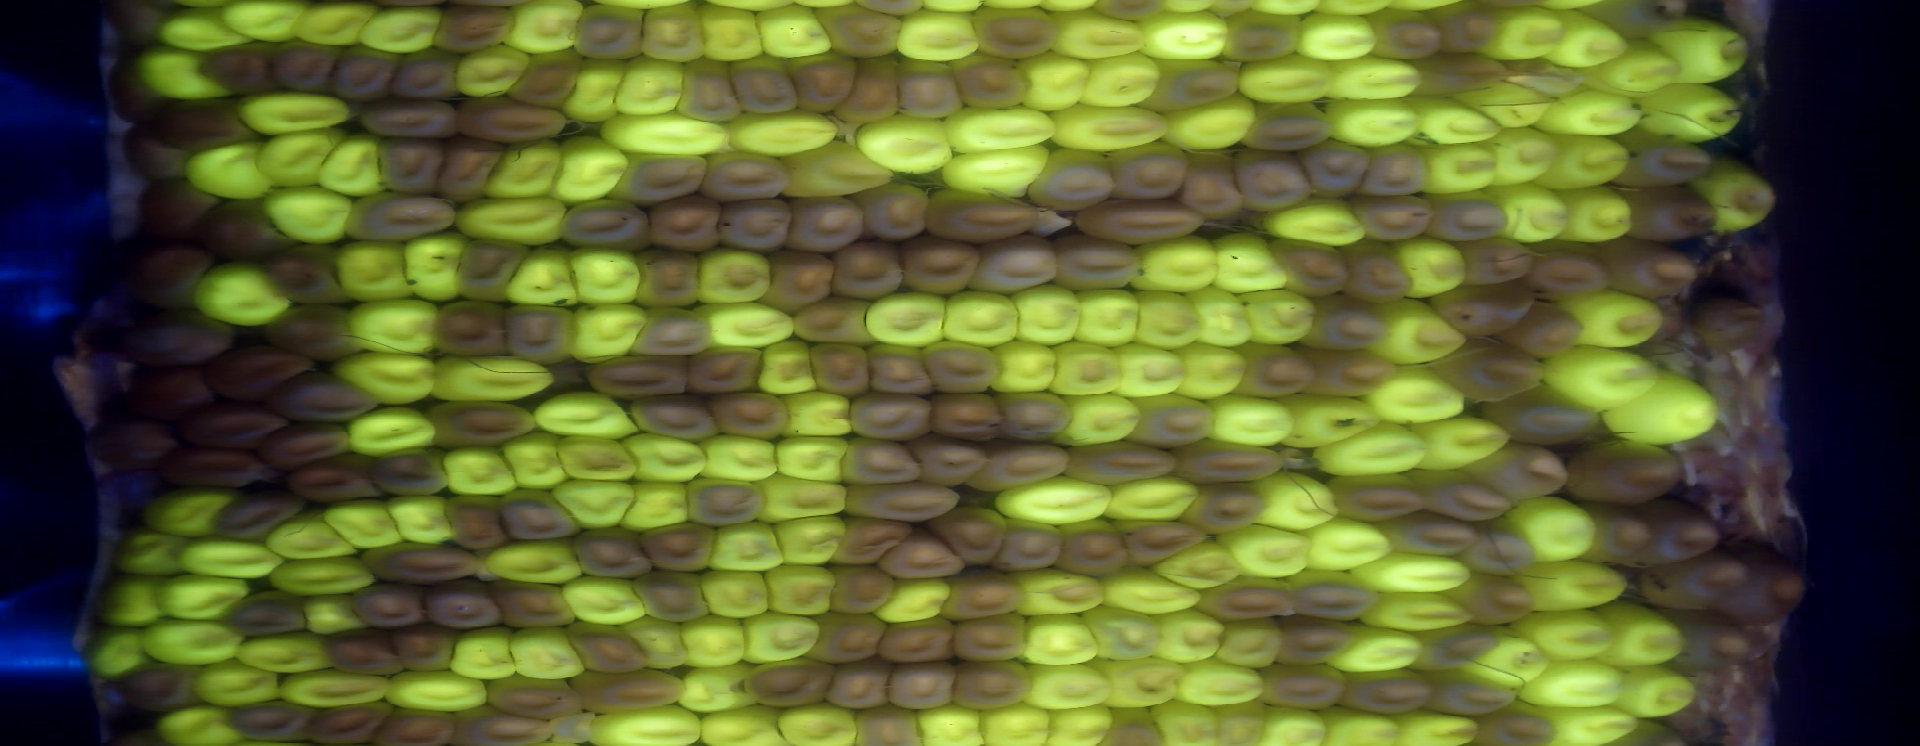fluorescent: (1597, 361, 1725, 452), (1538, 341, 1667, 416), (773, 138, 898, 205), (1558, 283, 1670, 354), (425, 349, 557, 409), (1649, 9, 1755, 83), (847, 109, 960, 178), (447, 189, 576, 249), (1368, 296, 1472, 370), (1629, 78, 1744, 145), (1367, 358, 1476, 428), (189, 257, 295, 328), (1311, 416, 1435, 477), (596, 107, 737, 159), (1517, 552, 1633, 615), (127, 39, 235, 107), (251, 121, 351, 194), (338, 294, 452, 358), (324, 349, 442, 410), (1689, 153, 1780, 232), (1044, 98, 1169, 156), (1502, 492, 1605, 562), (1398, 89, 1509, 154), (722, 102, 844, 160), (1404, 413, 1518, 475), (939, 140, 1051, 203), (1275, 388, 1387, 451), (135, 481, 249, 543), (1155, 89, 1260, 156), (178, 134, 277, 203), (260, 178, 356, 249), (1344, 548, 1480, 598), (561, 298, 655, 370), (1245, 464, 1344, 533), (1544, 2, 1635, 77), (1596, 597, 1689, 669), (580, 695, 710, 746), (1528, 83, 1648, 138), (1261, 189, 1371, 249), (1515, 657, 1635, 712), (168, 530, 290, 584), (994, 472, 1117, 526), (228, 85, 355, 136), (1044, 5, 1153, 65), (1096, 559, 1205, 619), (936, 99, 1064, 149), (1360, 583, 1483, 636), (1468, 622, 1560, 692), (1202, 227, 1296, 295), (547, 132, 636, 205), (140, 611, 255, 666), (1228, 49, 1338, 107), (1469, 2, 1569, 66), (1297, 514, 1397, 577), (1216, 519, 1318, 581), (481, 134, 566, 207), (331, 236, 418, 307), (1009, 563, 1116, 621), (1453, 72, 1560, 130), (500, 241, 585, 312), (936, 285, 1027, 352), (398, 223, 471, 305), (1386, 229, 1469, 301), (1318, 96, 1427, 151), (480, 533, 587, 589), (1538, 129, 1640, 187), (1074, 47, 1166, 111), (1018, 658, 1123, 714), (380, 665, 495, 717), (263, 549, 381, 599), (310, 130, 394, 200), (1547, 185, 1641, 247), (342, 401, 440, 461), (276, 663, 400, 709), (1513, 608, 1624, 660), (1104, 472, 1207, 528), (528, 388, 643, 439), (1331, 617, 1427, 677), (1065, 282, 1149, 350), (1288, 6, 1382, 66), (1482, 119, 1564, 187), (1613, 660, 1704, 722), (447, 39, 535, 103), (863, 287, 951, 350), (1322, 50, 1429, 103), (752, 472, 856, 526), (260, 506, 364, 560), (151, 570, 255, 624), (348, 1, 449, 56), (1125, 233, 1224, 289), (1134, 6, 1232, 62), (1490, 183, 1578, 245), (560, 571, 655, 628), (1014, 50, 1098, 115), (1047, 334, 1131, 399), (1101, 339, 1190, 401), (1056, 391, 1149, 450), (1206, 390, 1305, 445), (606, 51, 686, 120), (689, 243, 775, 306), (615, 428, 715, 481), (231, 627, 339, 677), (1161, 534, 1249, 595), (82, 619, 162, 686), (549, 474, 642, 532), (149, 4, 253, 55), (1127, 285, 1207, 352), (1174, 653, 1273, 707), (1536, 697, 1644, 746), (893, 5, 983, 64), (507, 619, 589, 684), (1599, 33, 1686, 94), (1168, 339, 1251, 403), (1010, 279, 1087, 348), (318, 494, 407, 554), (495, 1, 587, 59), (633, 1, 711, 69), (700, 298, 796, 353), (1420, 135, 1502, 198), (740, 608, 827, 668), (94, 566, 170, 635), (567, 243, 645, 309), (1240, 284, 1321, 348), (1213, 615, 1296, 677), (751, 2, 838, 61), (696, 429, 782, 488), (1014, 611, 1104, 668), (1104, 650, 1189, 710), (696, 697, 798, 746), (550, 429, 640, 484), (190, 652, 287, 703), (982, 337, 1062, 399), (675, 608, 754, 670), (1085, 603, 1164, 665), (440, 441, 525, 499), (693, 563, 775, 624), (707, 517, 786, 578), (774, 510, 853, 571), (563, 51, 627, 127), (446, 620, 522, 684), (1150, 603, 1228, 664), (1385, 699, 1487, 746), (775, 385, 857, 442), (681, 659, 759, 719), (771, 429, 851, 488), (284, 1, 384, 48), (615, 479, 696, 537), (692, 1, 768, 62), (873, 572, 955, 628), (621, 611, 696, 673), (763, 559, 838, 620), (110, 526, 195, 579), (1185, 283, 1254, 349), (217, 1, 313, 48), (497, 428, 571, 489), (756, 334, 822, 402), (382, 489, 457, 548), (152, 699, 246, 746), (771, 698, 863, 746), (1250, 697, 1335, 746), (1144, 693, 1222, 746), (980, 696, 1060, 746), (1206, 690, 1276, 746), (1320, 699, 1404, 746), (1041, 697, 1119, 746), (296, 589, 370, 639), (912, 701, 993, 746)
nonfluorescent: (1555, 434, 1685, 511), (1717, 538, 1813, 628), (1433, 336, 1555, 407), (1482, 382, 1608, 450), (1637, 549, 1755, 615), (1607, 126, 1720, 194), (111, 307, 235, 369), (1618, 494, 1725, 563), (200, 341, 322, 402), (456, 89, 576, 152), (1615, 179, 1724, 247), (921, 185, 1044, 245), (962, 225, 1067, 296), (1464, 439, 1578, 503), (264, 367, 387, 428), (1597, 234, 1703, 303), (339, 187, 458, 247), (1070, 195, 1209, 246), (1404, 465, 1517, 527), (125, 243, 220, 314), (1063, 437, 1180, 495), (264, 299, 365, 365), (422, 396, 542, 451), (353, 538, 487, 587), (1321, 469, 1435, 527), (174, 394, 295, 448), (1177, 141, 1254, 225), (1656, 603, 1756, 668), (103, 657, 207, 719), (962, 439, 1075, 496), (1365, 506, 1480, 562), (1515, 236, 1613, 303), (1297, 289, 1391, 358), (1428, 281, 1536, 341), (1236, 96, 1338, 158), (1229, 141, 1315, 216), (757, 245, 844, 318), (1049, 227, 1144, 294), (149, 442, 276, 492), (1265, 233, 1356, 303), (1417, 661, 1522, 722), (567, 668, 696, 717), (1025, 145, 1122, 209), (1169, 437, 1294, 488), (264, 238, 353, 309), (620, 388, 724, 448), (1113, 512, 1217, 572), (1142, 56, 1244, 118), (809, 1, 909, 64), (840, 475, 969, 523), (208, 481, 302, 546), (160, 93, 264, 152), (696, 145, 795, 206), (479, 575, 584, 632), (613, 149, 714, 209), (1336, 235, 1419, 307), (1104, 138, 1195, 205), (1283, 566, 1385, 625), (831, 49, 910, 125), (785, 191, 873, 258), (255, 416, 351, 478), (203, 196, 288, 266), (926, 503, 1013, 571), (1500, 299, 1587, 366), (896, 234, 988, 298), (915, 336, 1007, 399), (83, 413, 182, 472), (135, 176, 220, 244), (1304, 343, 1402, 402), (507, 45, 587, 118), (557, 194, 653, 254), (1178, 480, 1273, 540), (965, 2, 1062, 61), (842, 385, 939, 443), (1215, 7, 1311, 66), (429, 295, 516, 360), (500, 298, 580, 367), (936, 567, 1033, 625), (703, 385, 798, 443), (874, 526, 970, 584), (1333, 665, 1442, 717), (1406, 621, 1507, 676), (838, 431, 931, 491), (563, 617, 656, 677), (449, 235, 527, 307), (285, 450, 382, 507), (711, 194, 797, 258), (419, 573, 509, 635), (724, 50, 804, 119), (626, 243, 707, 311), (583, 350, 693, 401), (1123, 393, 1221, 450), (1269, 609, 1360, 669), (492, 483, 582, 544), (905, 429, 996, 489), (827, 513, 917, 573), (1424, 187, 1515, 247), (1449, 570, 1543, 627), (827, 239, 909, 305), (1578, 499, 1660, 565), (482, 670, 590, 720), (895, 54, 973, 122), (369, 130, 447, 198), (196, 39, 285, 99), (1254, 660, 1356, 713), (784, 49, 864, 115), (738, 657, 838, 710), (218, 586, 312, 642), (947, 654, 1035, 714), (355, 94, 463, 143), (644, 189, 725, 254), (784, 293, 877, 349), (806, 608, 893, 668), (624, 303, 715, 360), (1348, 189, 1439, 246), (321, 621, 405, 682), (1195, 572, 1296, 624), (1450, 232, 1545, 285), (429, 1, 518, 59), (636, 517, 721, 577), (362, 443, 456, 499), (569, 1, 651, 64), (299, 696, 400, 746), (1407, 49, 1509, 99), (327, 42, 405, 107), (949, 608, 1033, 668), (124, 364, 216, 419), (947, 53, 1032, 111), (386, 45, 468, 107), (1298, 136, 1375, 201), (1358, 9, 1445, 66), (1236, 341, 1319, 401), (220, 697, 324, 745), (675, 56, 746, 126), (433, 134, 501, 207), (631, 566, 711, 627), (1457, 516, 1538, 577), (1051, 514, 1133, 575), (571, 526, 658, 582), (435, 490, 513, 552), (1356, 138, 1434, 201), (684, 475, 773, 530), (987, 514, 1068, 575), (102, 51, 165, 127), (855, 180, 932, 243), (992, 390, 1076, 446), (116, 120, 193, 181), (923, 387, 1007, 443), (876, 611, 959, 668), (862, 337, 936, 401), (268, 36, 344, 97), (447, 703, 553, 746), (1425, 1, 1501, 61), (1695, 294, 1771, 354), (684, 341, 765, 397), (804, 338, 876, 402), (819, 561, 900, 616), (882, 659, 960, 714), (386, 619, 460, 675), (1464, 704, 1562, 746), (823, 657, 894, 713), (348, 579, 427, 630), (367, 704, 462, 746), (100, 1, 175, 53), (846, 703, 931, 746)
